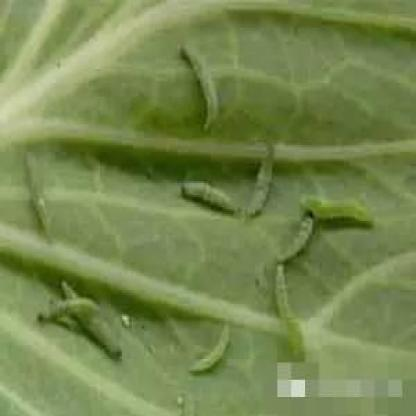armyworm: (36, 282, 123, 359), (266, 259, 314, 369), (176, 42, 223, 138), (301, 192, 380, 233), (271, 201, 321, 265), (22, 150, 56, 242), (177, 175, 241, 220), (187, 314, 234, 375), (247, 136, 275, 229)
